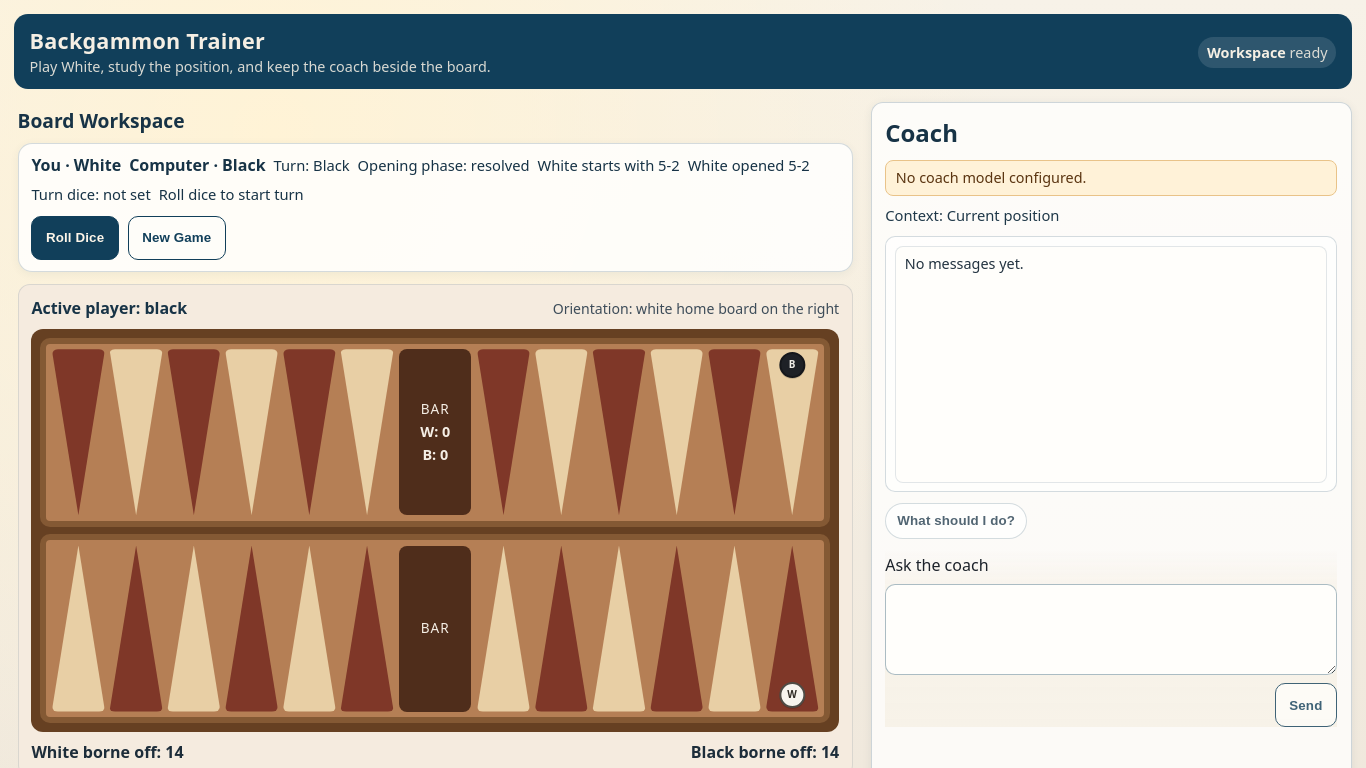
it: App opening roll lifecycle › allows the opposite player to roll when each side has one checker remaining
Click the button "Roll Dice": (75, 238) [31,216,119,260]
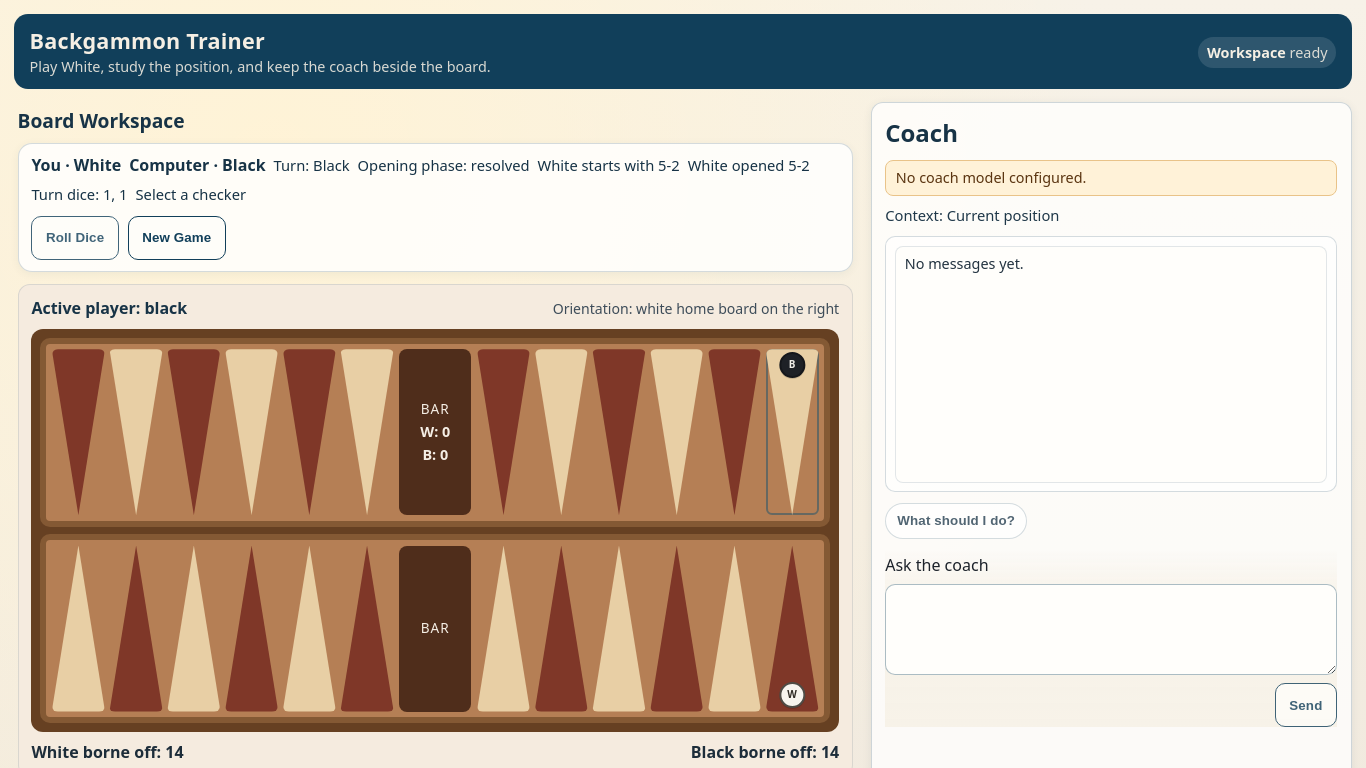
Expected: the text with test id "turn-dice-value" reads "Turn dice: 1, 1", [31,184,128,204]
